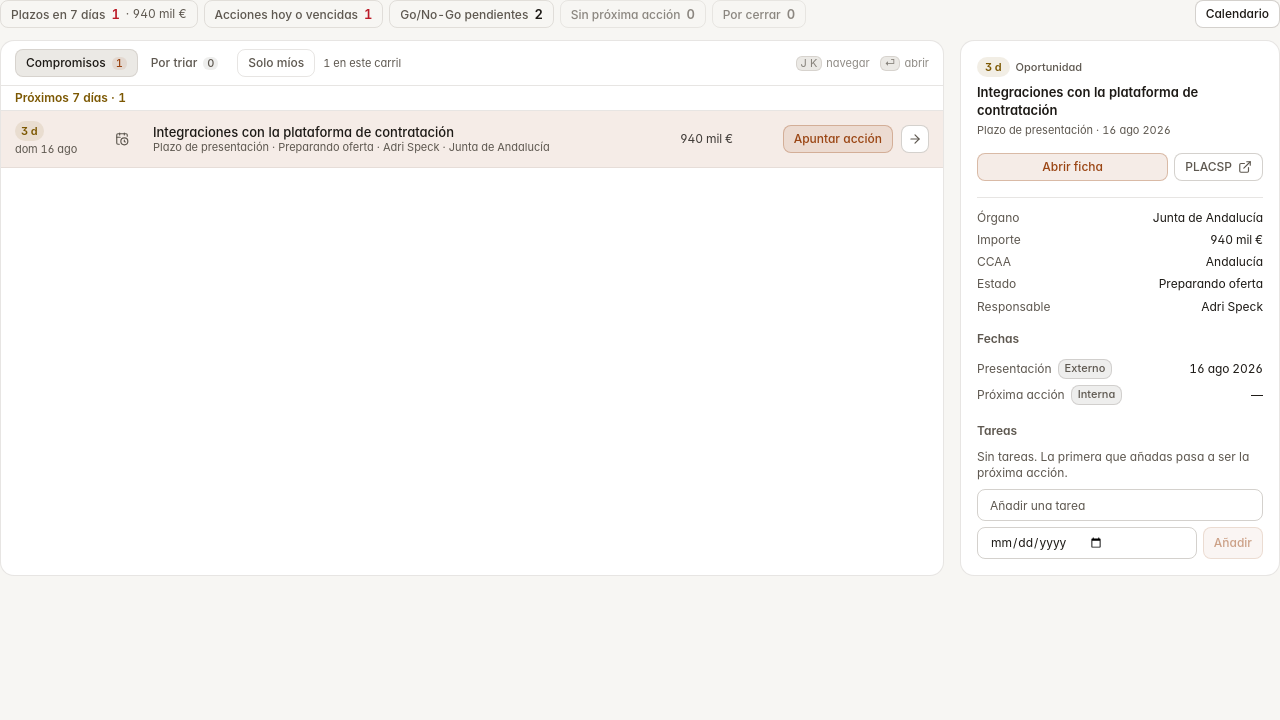
Test: AgendaView — próxima acción desde la fila › sin texto no hay nada que guardar
Click the button "Apuntar acción".
click(838, 139)  # box [783,125,893,153]
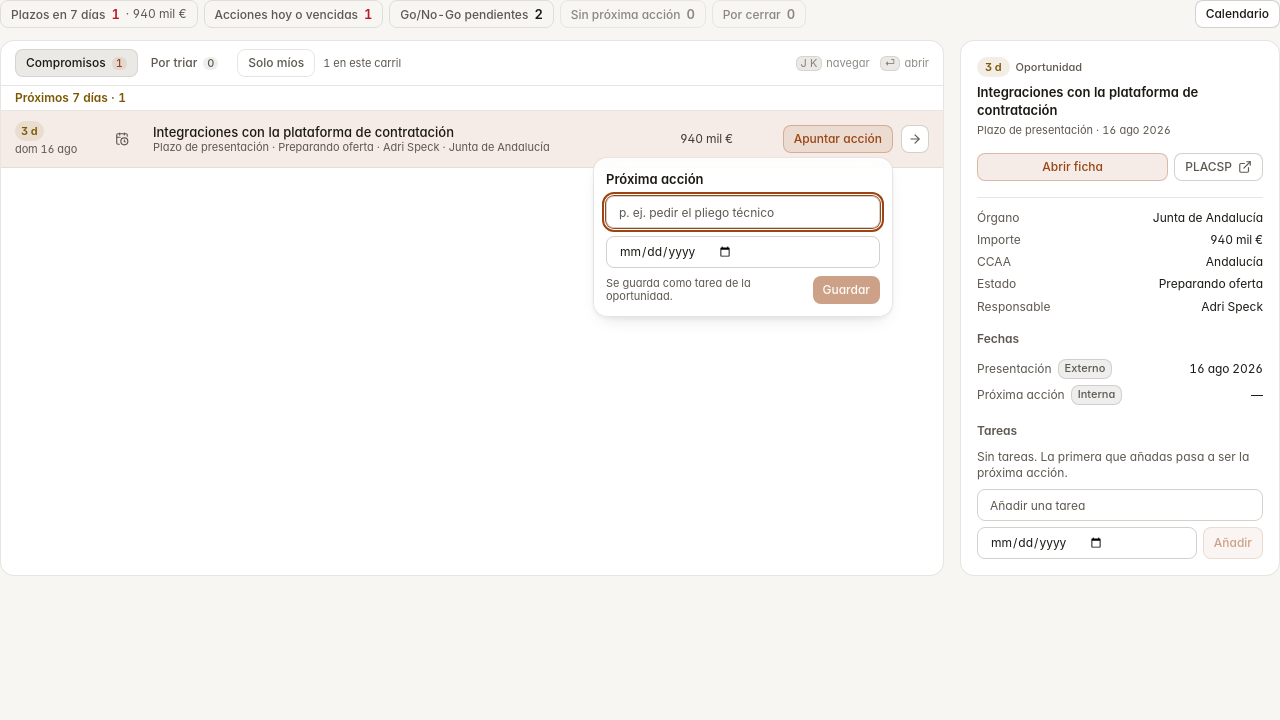
Expected: the button "Guardar" is disabled, [812,276,880,304]
